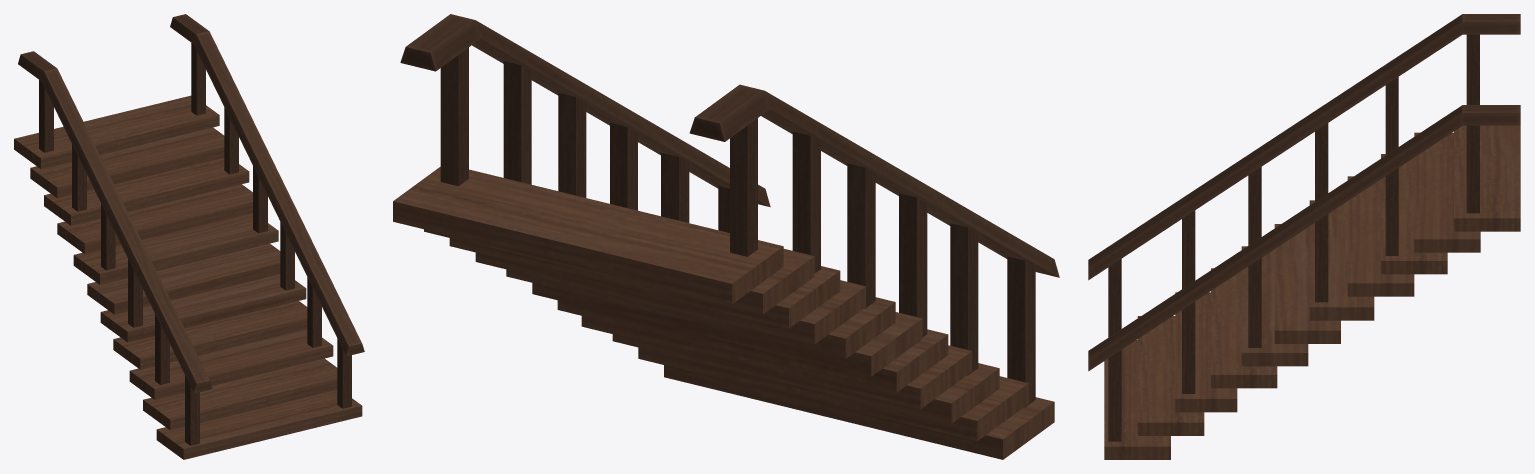
File: Stairs_1.fbx
3 views of the same model, side by side, from view 1: azimuth 30°, elevation 25°; view 2: azimuth 150°, elevation 25°; view 3: azimuth 270°, elevation 25° (orthographic). The views are drawn at different scales.
Parts seen in each view (by area): view 1: polySurface1482; view 2: polySurface1482; view 3: polySurface1482.
Part boxes in pixels (left/top/right/bottom): polySurface1482: left=14, top=14, right=364, bottom=459; polySurface1482: left=393, top=14, right=1059, bottom=459; polySurface1482: left=1088, top=14, right=1520, bottom=459.
Bounding box in the file's own units: 3.8 × 5.69 × 6.5.
